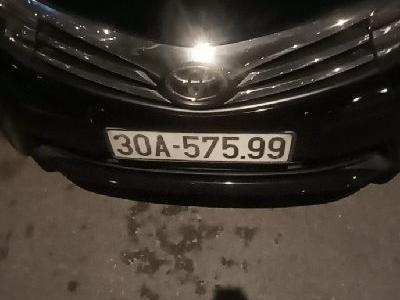number: (107, 127, 292, 165)
